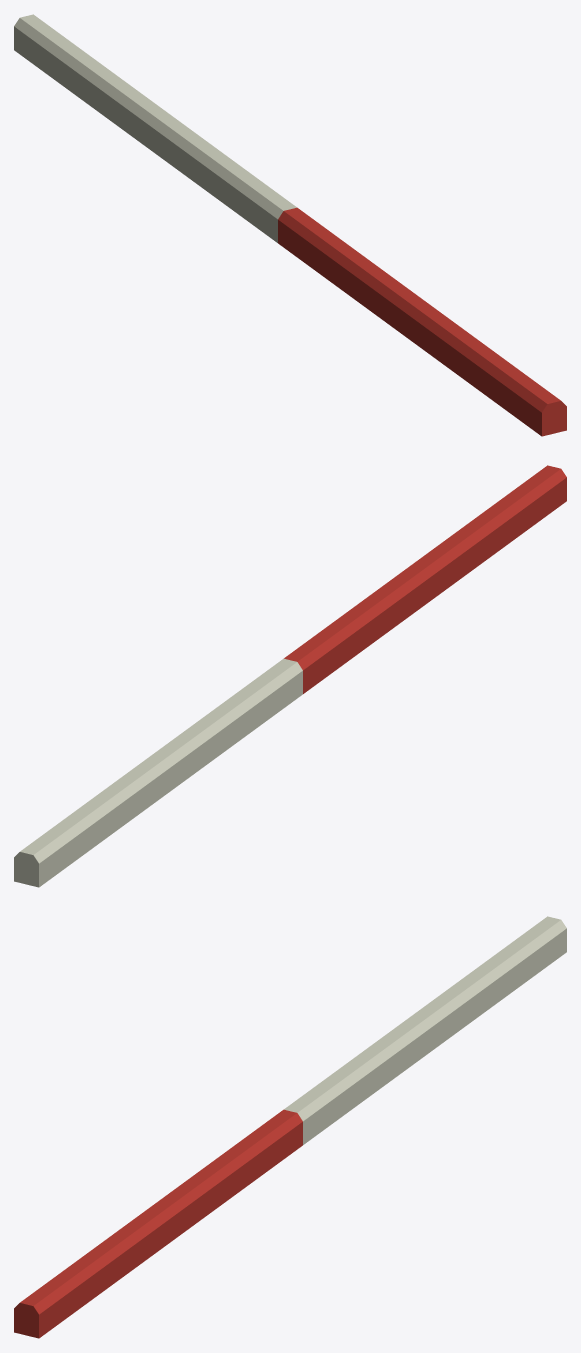
The model's file is sn_trk_curb.glb.
The picture shows the model from 3 angles, top to bottom: view 1: azimuth 30°, elevation 25°; view 2: azimuth 150°, elevation 25°; view 3: azimuth 330°, elevation 25°; orthographic projection.
Visible parts, largest first — view 1: sn_trk_curb; view 2: sn_trk_curb; view 3: sn_trk_curb.
Boxes of the visible parts, bbox=[...] form: sn_trk_curb: bbox=[14, 14, 566, 436]; sn_trk_curb: bbox=[14, 465, 566, 887]; sn_trk_curb: bbox=[14, 916, 566, 1338].
Bounding box in the file's own units: 0.2197 × 0.2598 × 8.
